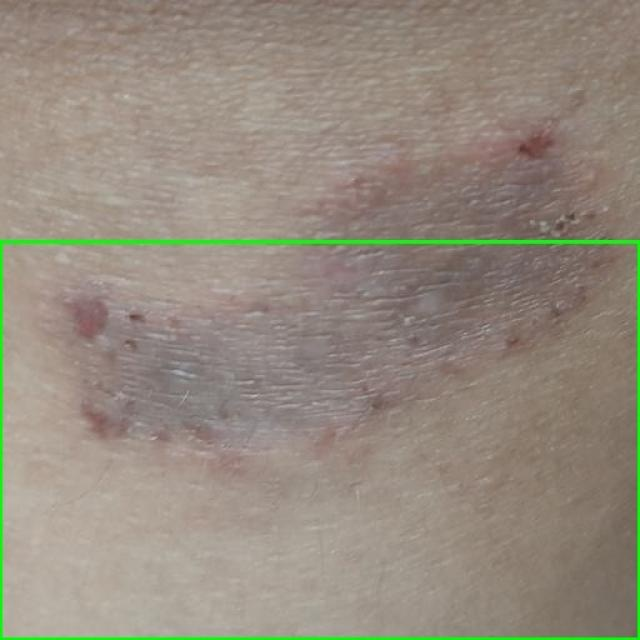Tinea Corporis: (0, 241, 639, 639)
